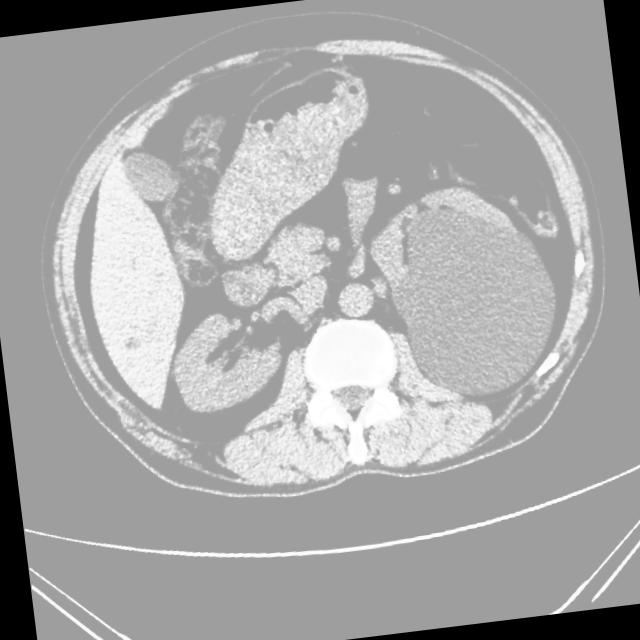cysts: (21, 4, 620, 520)
